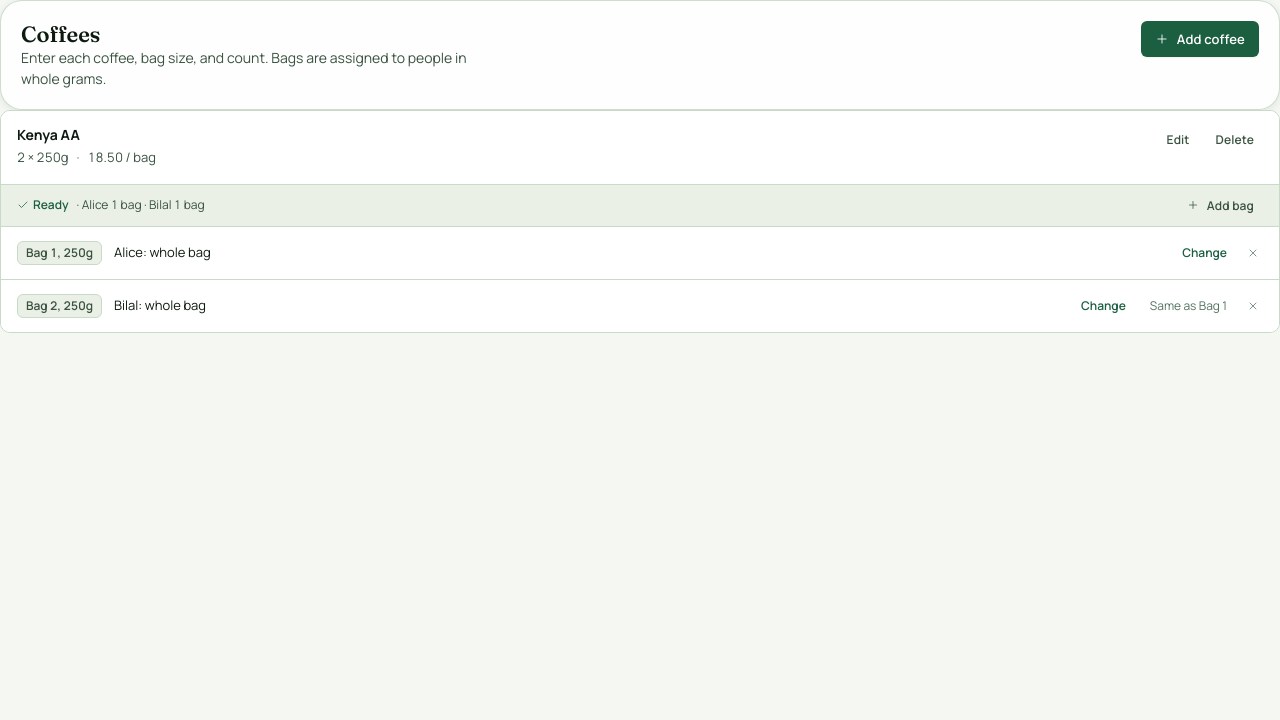
CoffeeLotsSection › prompts confirm modal when removing an assigned bag
What coordinates should you click on to do the following:
click the 2nd button with class "fb-bag-remove-btn"
I would click on:
 (1253, 306)
Its box is [1243,296,1263,316].
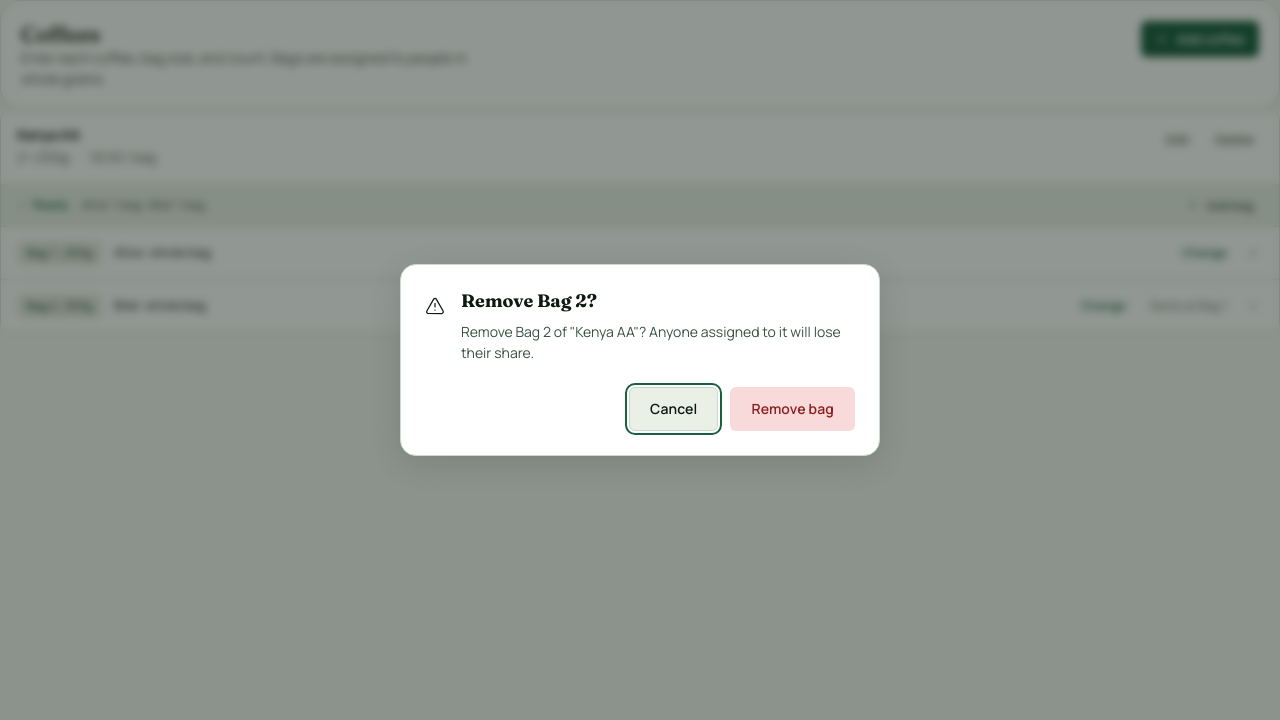
Expected: the text "Remove Bag 2?" is shown, [461,289,597,312]
Expected: the text "Anyone assigned to it will lose their share" is shown, [461,322,841,362]
